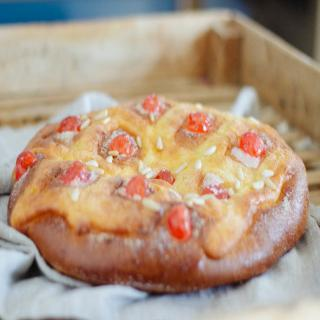Pizza: (13, 93, 311, 298)
